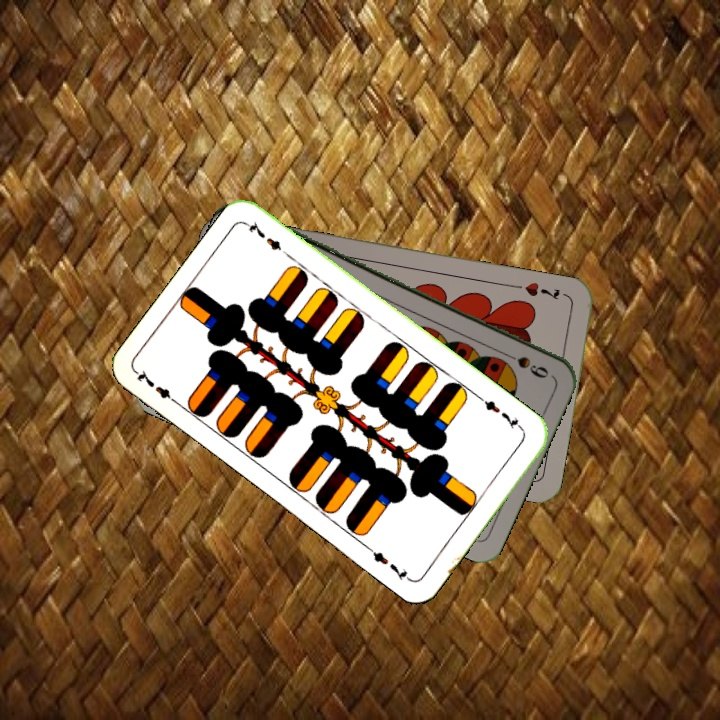E7: (132, 367, 183, 408), (476, 393, 526, 434)
H7: (521, 278, 562, 303)
S9: (497, 347, 551, 380)
